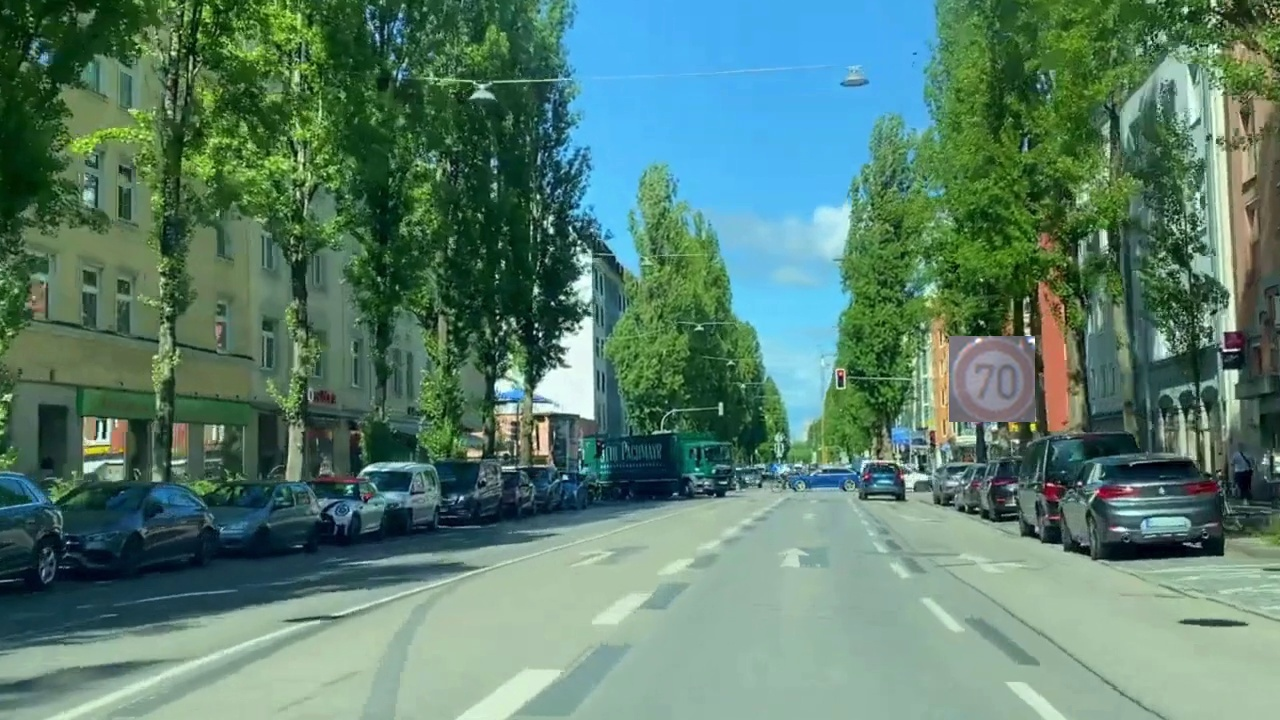Speed 70: (949, 336, 1035, 422)
